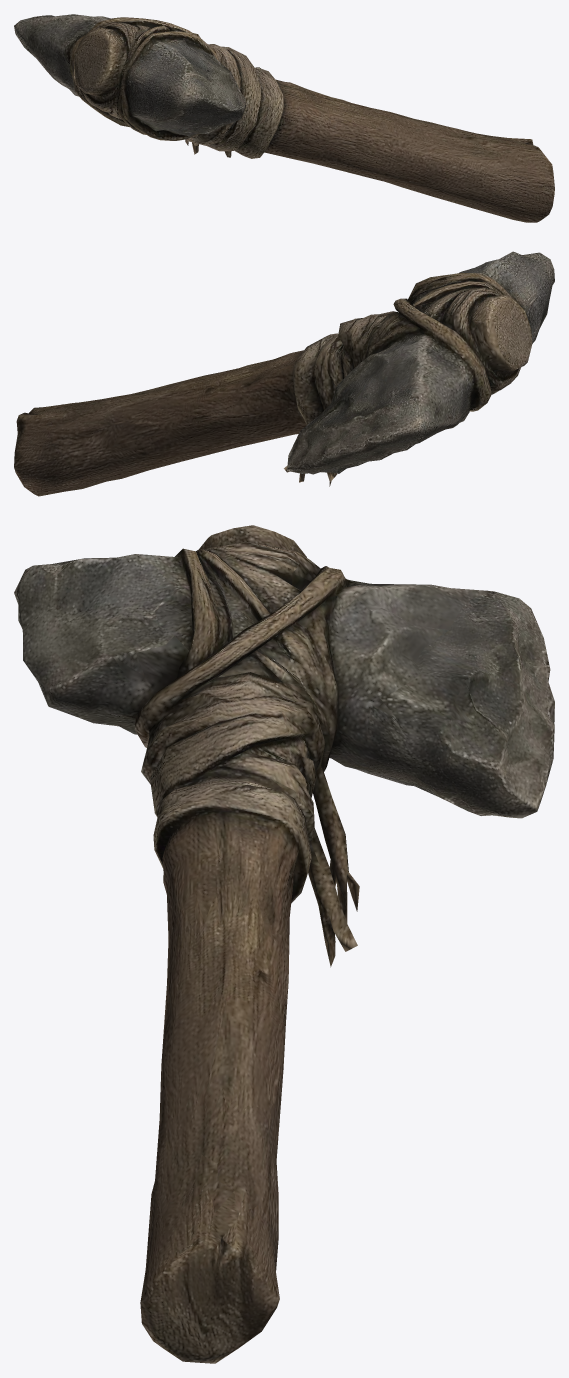
Rendered from stone_axe.fbx.
3 views of the same model, one above another, from view 1: azimuth 30°, elevation 25°; view 2: azimuth 150°, elevation 25°; view 3: azimuth 270°, elevation 25° (orthographic). The views are drawn at different scales.
Parts seen in each view (by area): view 1: tripo_node_e086b064; view 2: tripo_node_e086b064; view 3: tripo_node_e086b064.
Boxes of the visible parts, x1,y1,x2,y2 form: tripo_node_e086b064: (14, 14, 554, 222); tripo_node_e086b064: (14, 251, 554, 496); tripo_node_e086b064: (14, 525, 554, 1363).
Bounding box in the file's own units: 0.9797 × 0.5912 × 0.5898.
